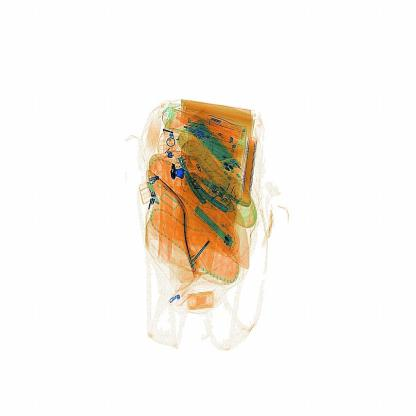wrench: (158, 153, 186, 186)
